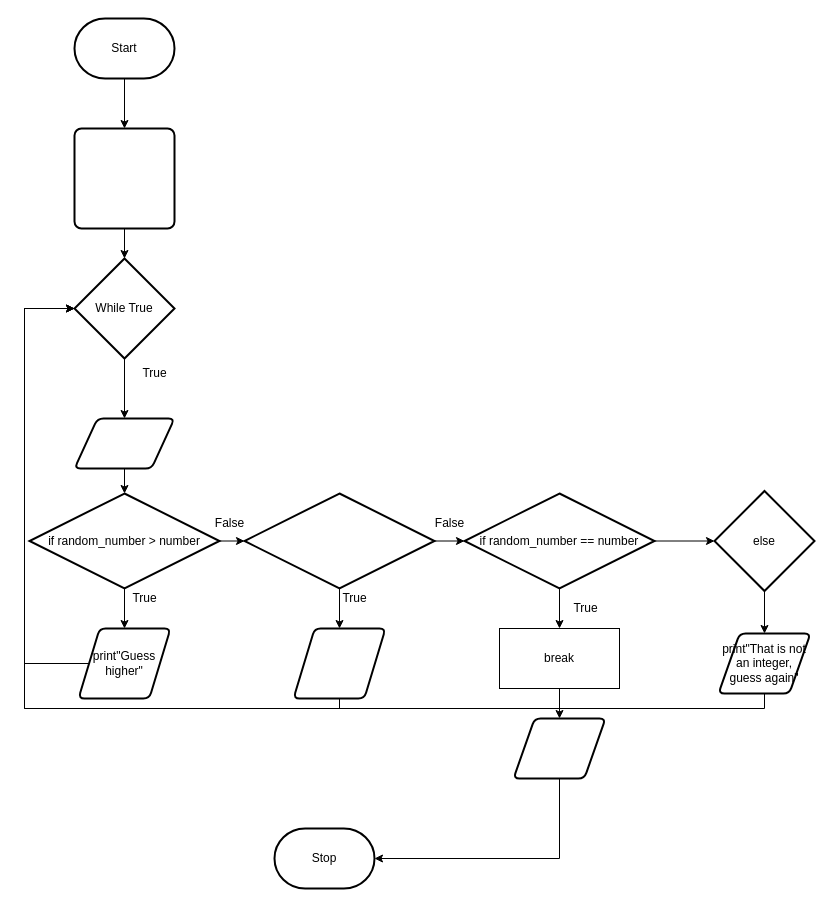
Some shapes in this 833 by 906 pixel diagram are drawn without their labels. The shapes that lost their labels are listed below. From the top down, each one's centre as x and y in pixels, then its label:
(x=124, y=178): Generate random number
(x=124, y=443): Get number
(x=339, y=540): if random_number < number
(x=339, y=663): print"Guess lower"
(x=559, y=748): print"You guessed correct!"
